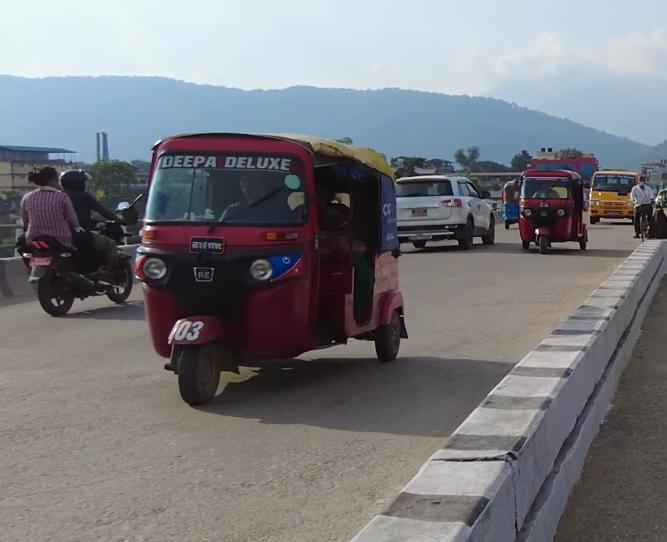auto_rickshaw: (136, 126, 418, 412), (515, 164, 592, 257), (502, 176, 523, 232)
bike: (14, 200, 137, 316)
car: (394, 172, 498, 254)
school_bus: (588, 168, 642, 227)
